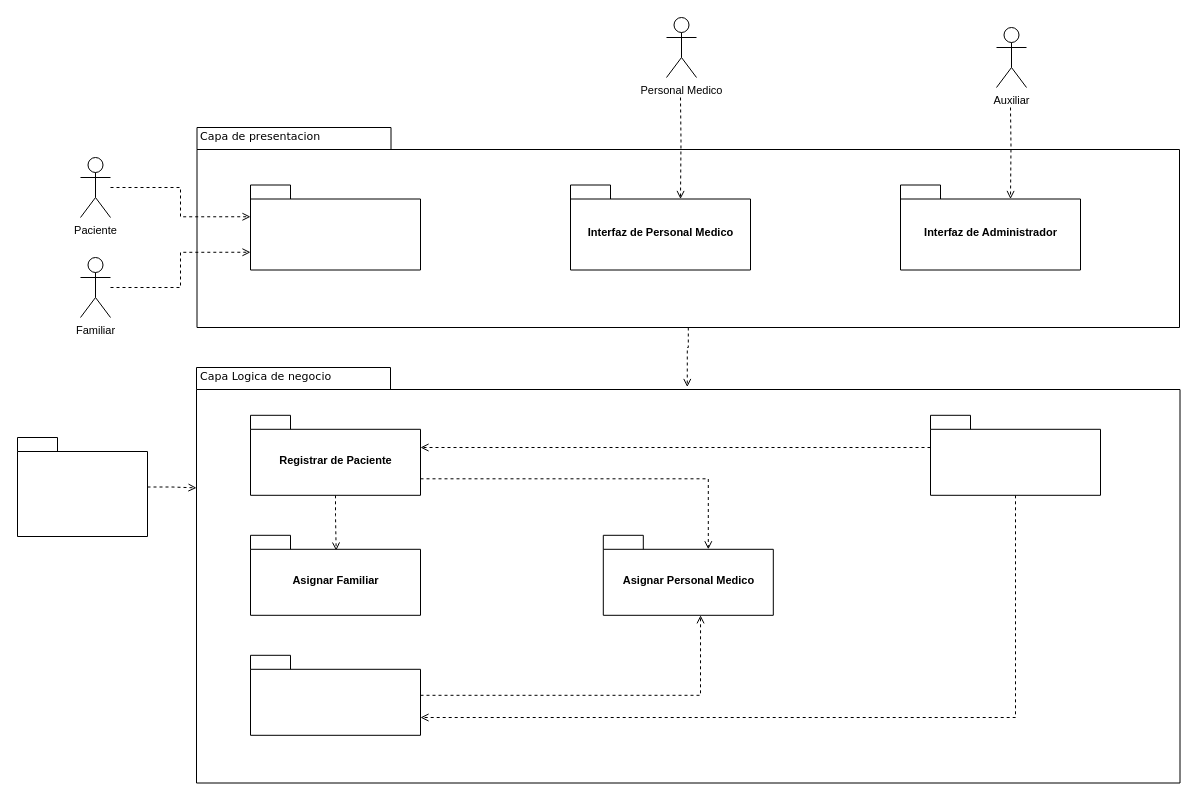
The diagram is 1198 pixels wide and 801 high, and some of its shapes have lost their labels. Each missing label, with the centre of its shape:
"Base de datos" belongs at point (82, 486).
"Interfaz de Paciente/Familiar" belongs at point (335, 227).
"Registrar Personal Medico" belongs at point (335, 694).
"Registrar Usuario" belongs at point (1015, 454).
